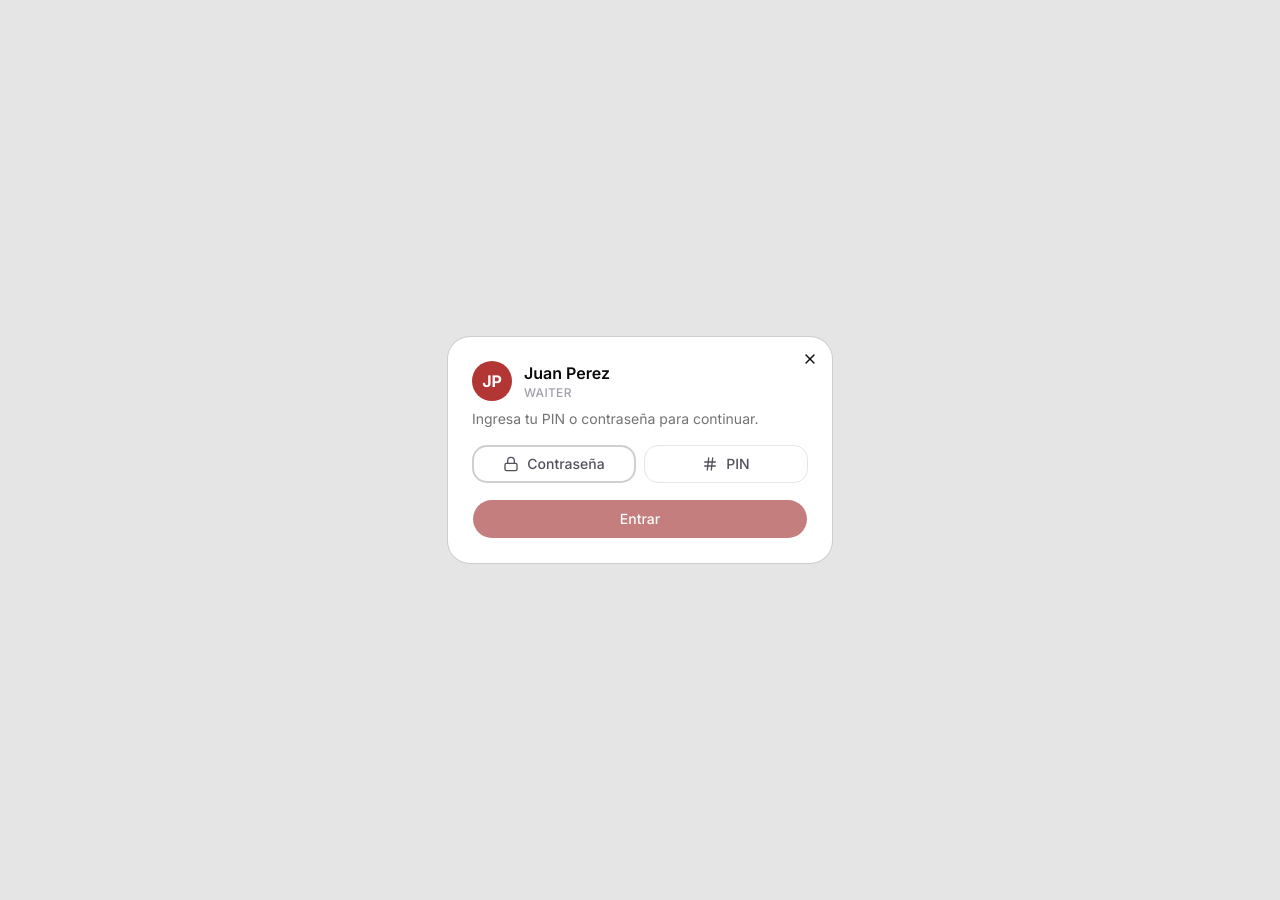
QuickLoginModal › "Contraseña" toggle reveals the password field
The image size is (1280, 900).
Click the button "Contraseña" at [554, 464], box [472,445,636,483]
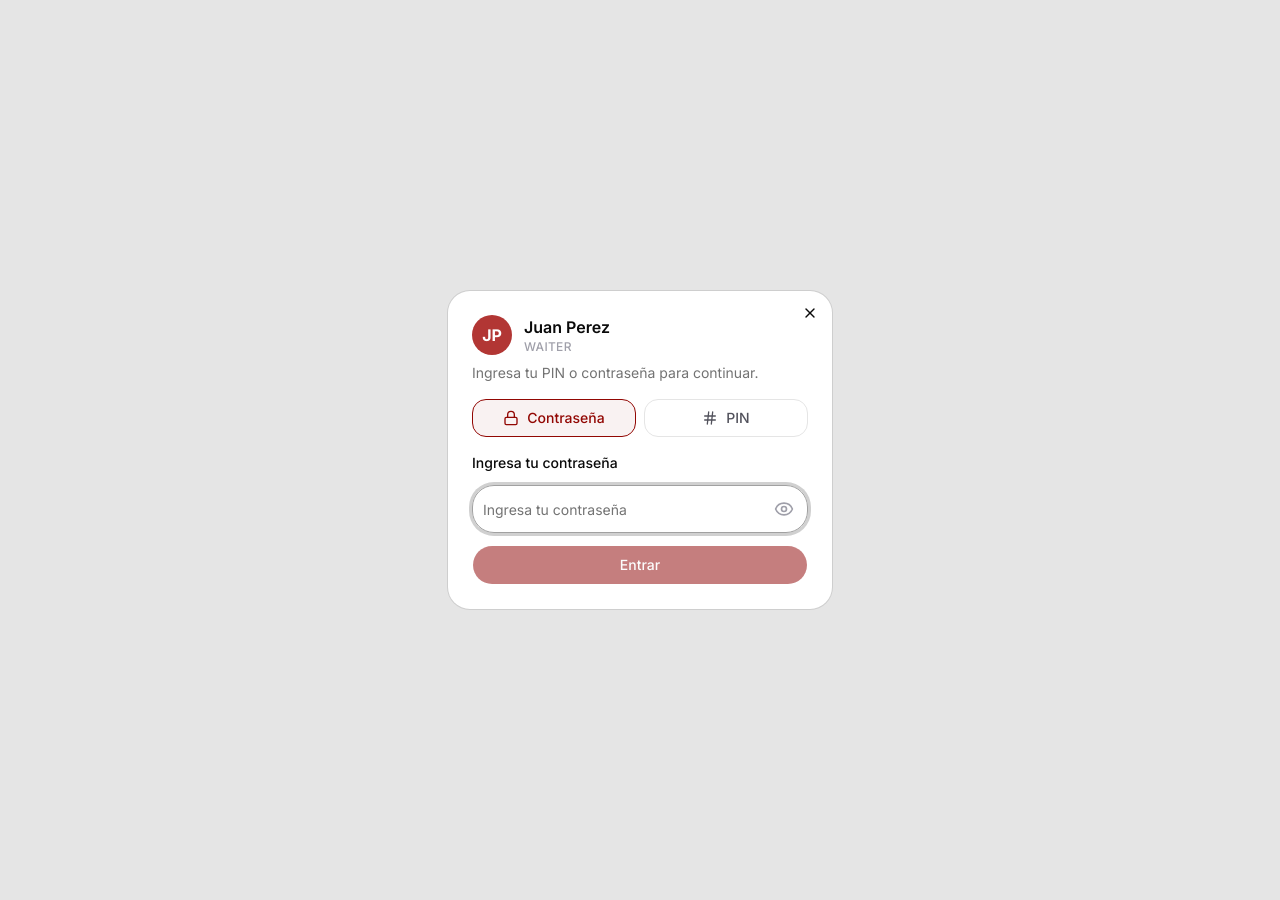
Now the password field labelled "Ingresa tu contraseña" is shown, box [472,485,808,533]
